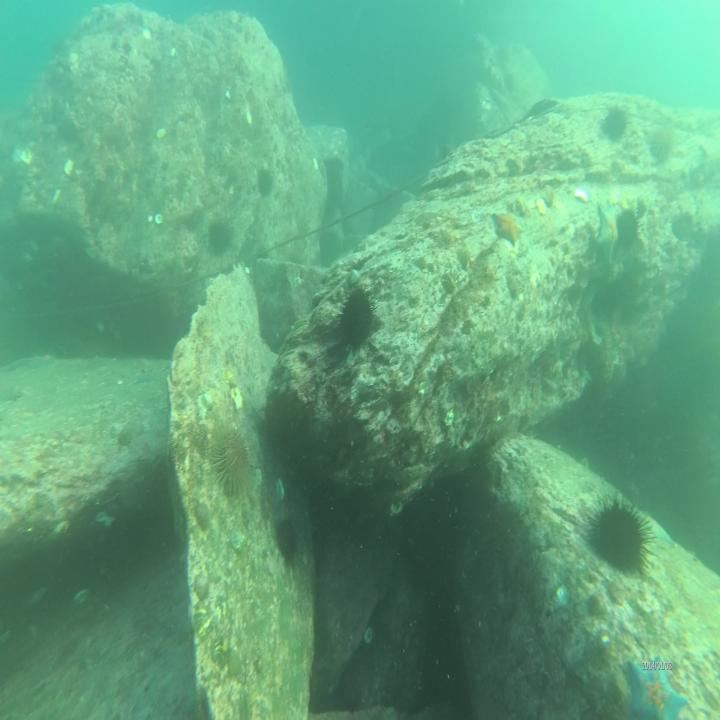echinus: (589, 487, 654, 586), (210, 421, 250, 498), (337, 282, 377, 348), (273, 514, 299, 568), (206, 217, 231, 258), (606, 101, 628, 139), (647, 121, 671, 155), (618, 206, 638, 243), (256, 163, 274, 200)
starfish: (624, 649, 690, 720), (596, 200, 622, 261), (494, 208, 524, 249)
